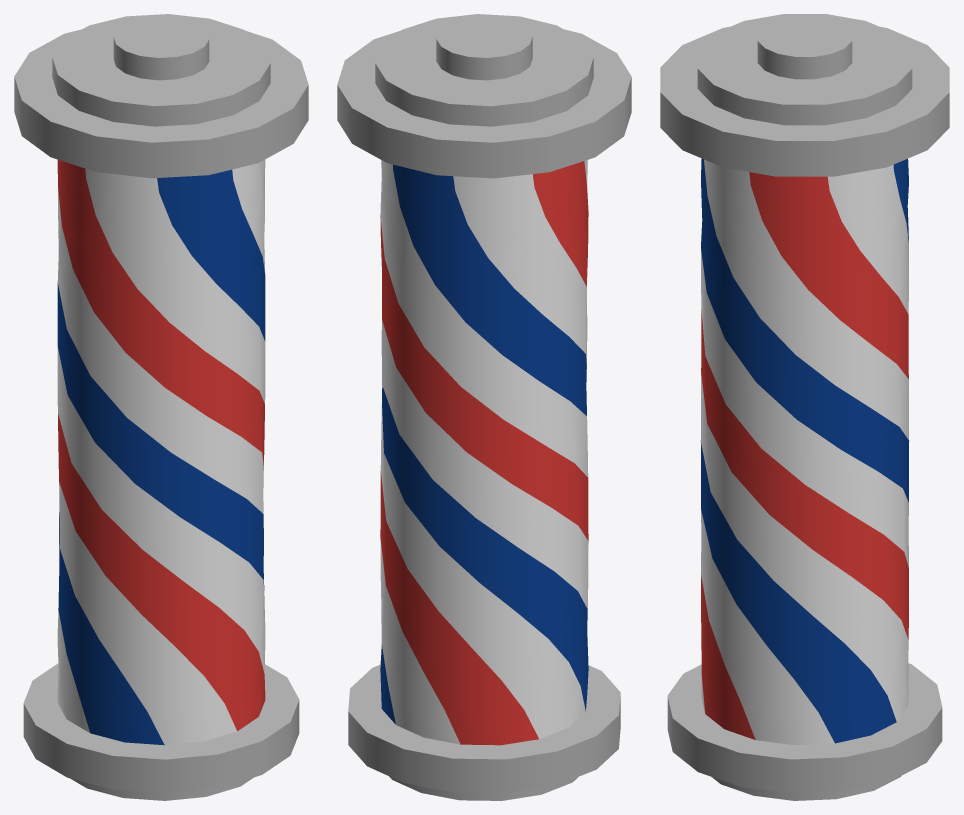
The model's file is barber_pole.glb.
3 views of the same model, side by side, from view 1: azimuth 30°, elevation 25°; view 2: azimuth 150°, elevation 25°; view 3: azimuth 270°, elevation 25° (orthographic).
Parts seen in each view (by area): view 1: Cylinder.432; view 2: Cylinder.432; view 3: Cylinder.432.
Part boxes in pixels (x1=…): Cylinder.432: x1=14, y1=14, x2=308, y2=800; Cylinder.432: x1=337, y1=14, x2=631, y2=800; Cylinder.432: x1=660, y1=14, x2=949, y2=800.
Bounding box in the file's own units: 0.7699 × 2.11 × 0.7699.
1 material, 1 textured.
